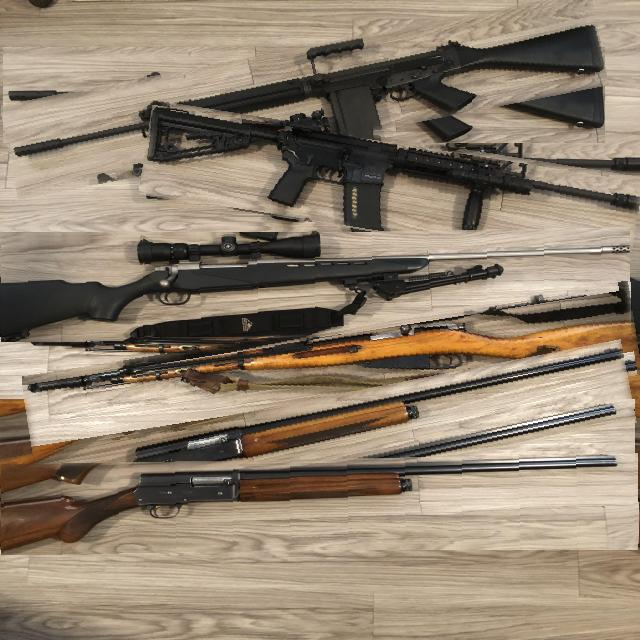gun: (1, 19, 607, 171), (0, 369, 636, 513), (24, 304, 640, 446), (0, 229, 631, 339), (141, 119, 640, 253)
knife: (0, 456, 639, 552)
